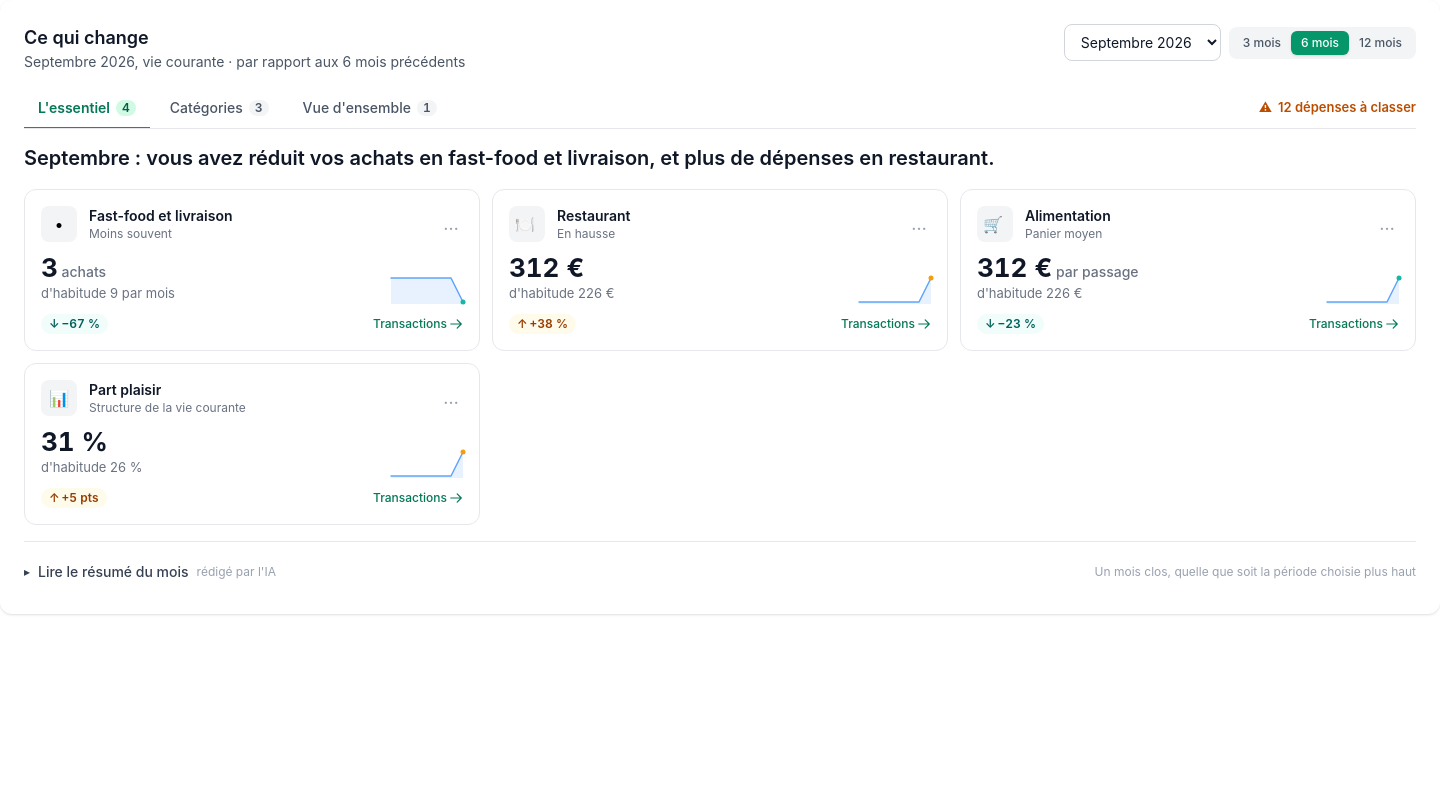
SpendingTrendsCard › a tile › keeps its full sentence as its description, and shows it with the second links on demand
The image size is (1440, 810).
Click the button with test id "trend-details-toggle".
click(919, 224)  # box [903, 208, 935, 240]
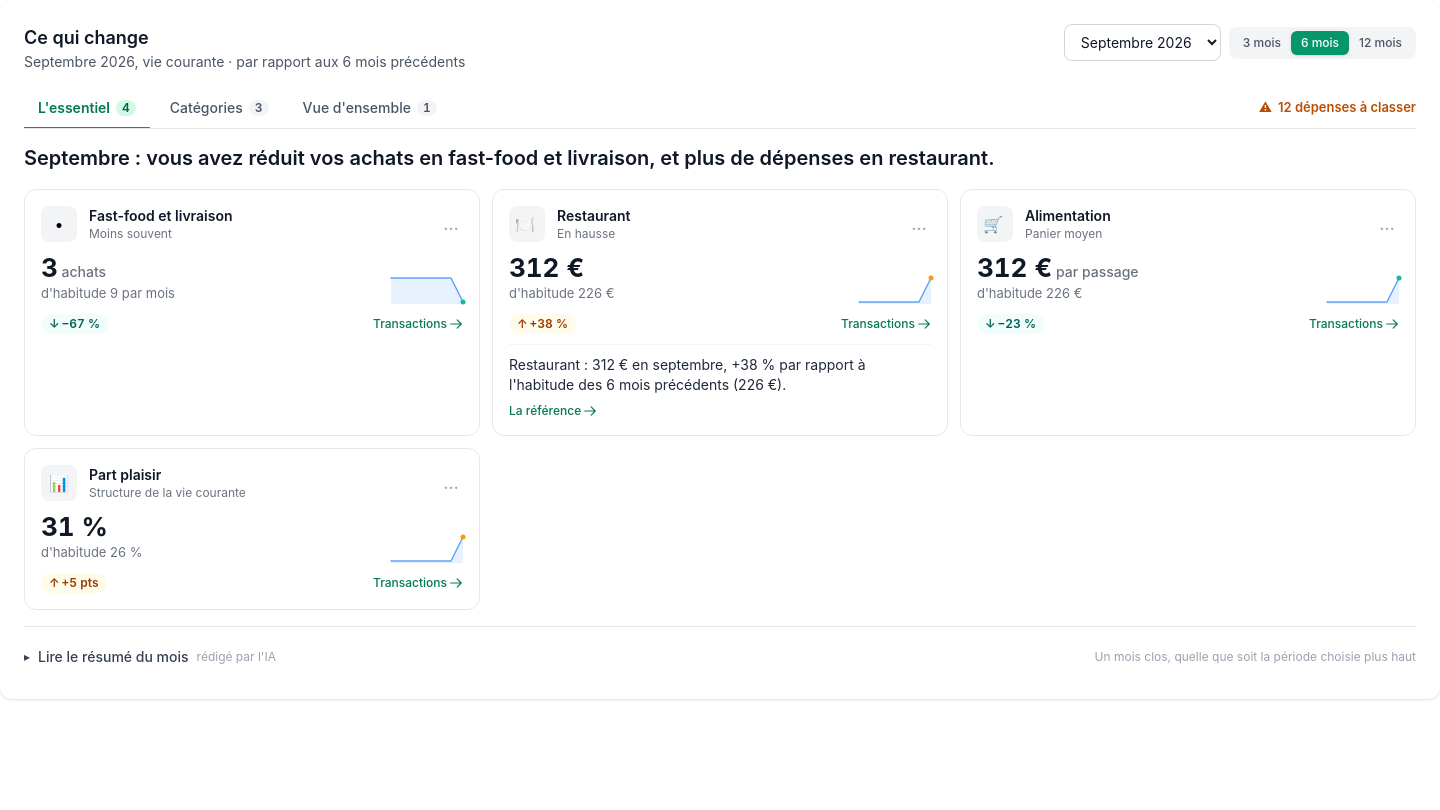
Result: the link with test id "trend-reference-link" reads "La référence" at [509, 402, 581, 418]
